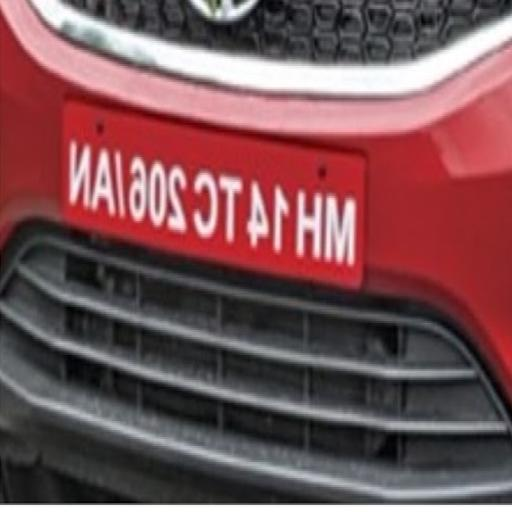License: (66, 95, 372, 289)
